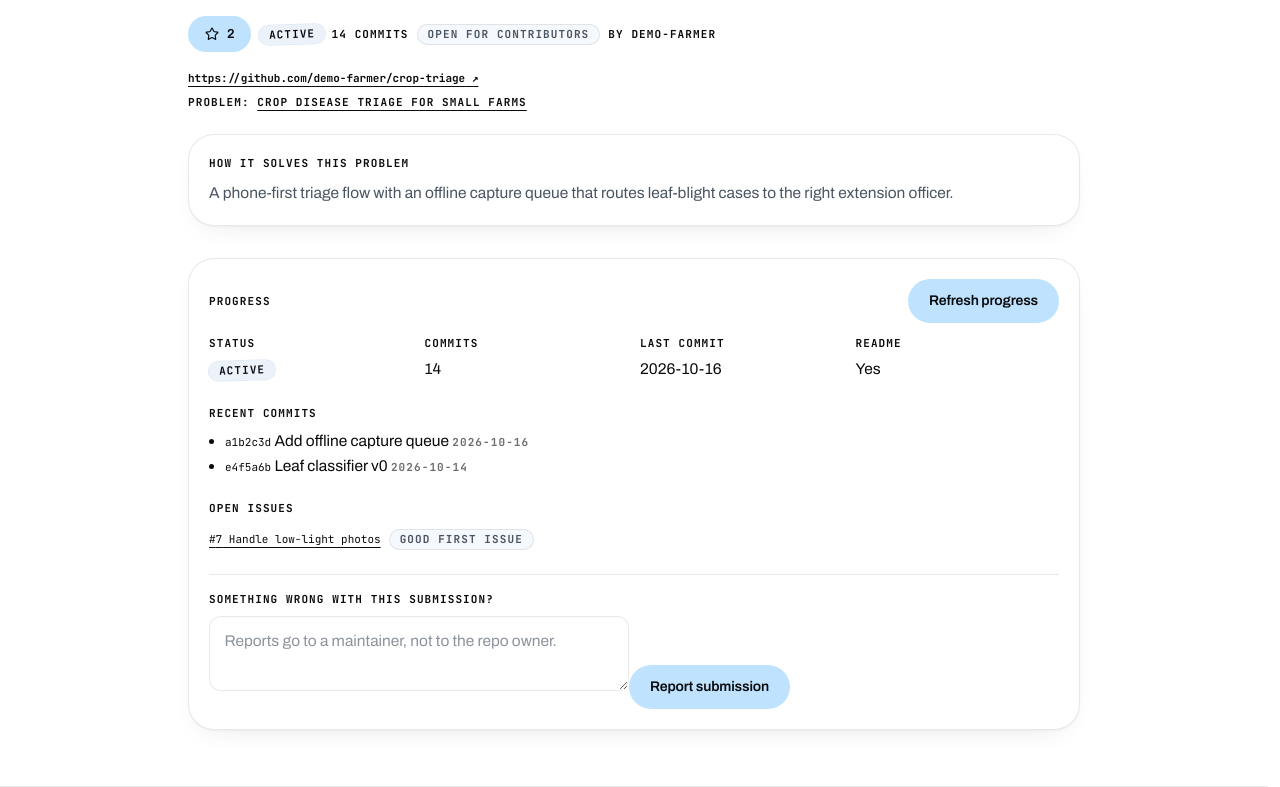
Test: ProjectDetailPage › reports a submission: client validation, success toast, then a clean form
(page scrolled)
In the text box labelled "Something wrong with this submission?": (419, 654) 209,616 -> 629,691, type "short"
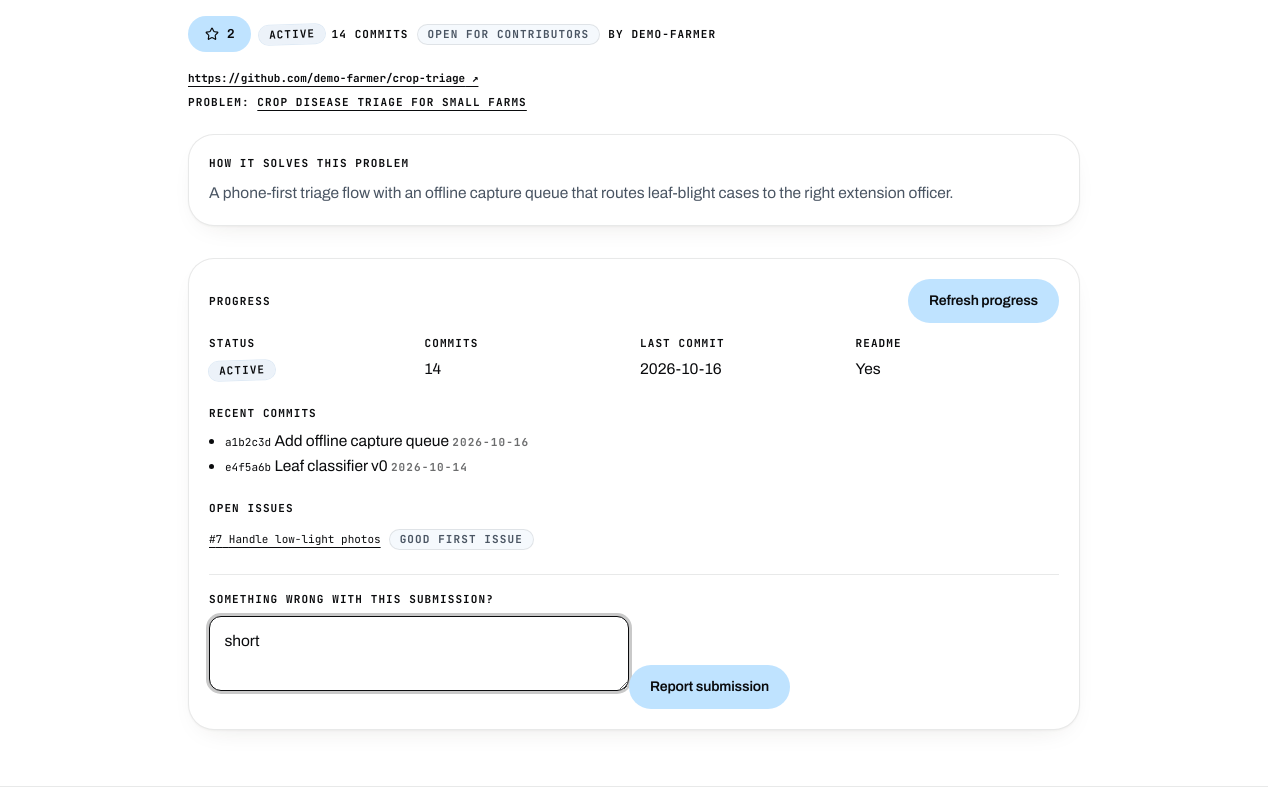
Click the button "Report submission": (710, 687) 629,665 -> 790,709
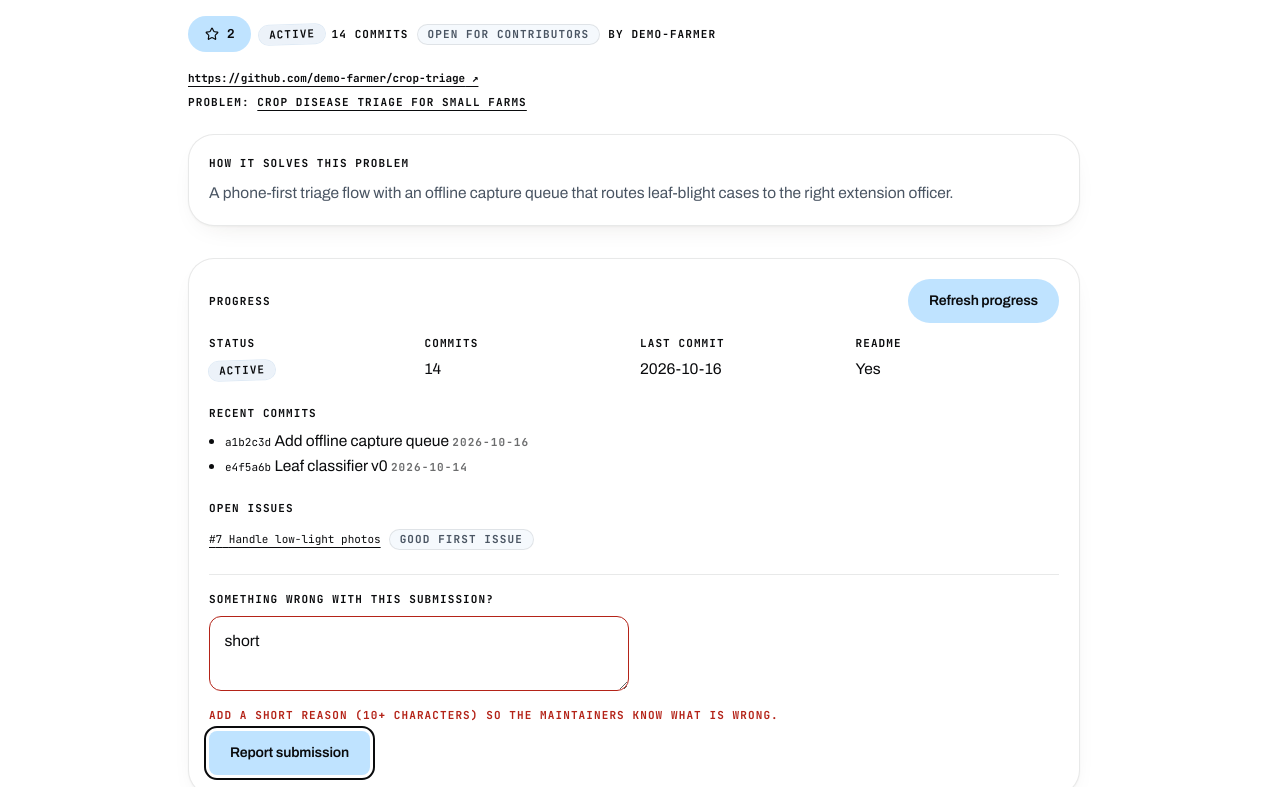
Result: the text "Add a short reason (10+ characters) so the maintainers know what is wrong." is shown at 209,708 -> 779,722
Replace the text in the text box labelled "Something wrong with this submission?" with "The demo link goes to a parking page.": (419, 654) 209,616 -> 629,691
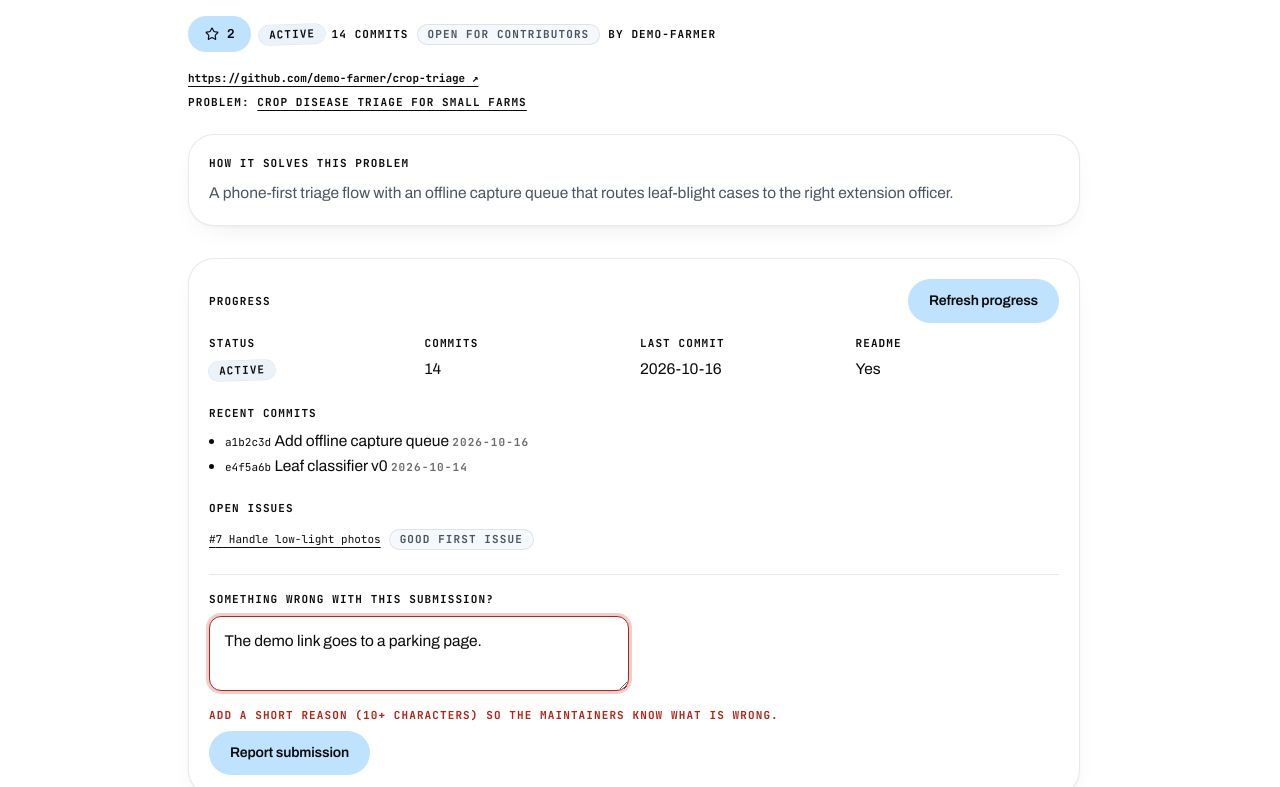
Click the button "Report submission": (290, 754) 209,732 -> 370,776
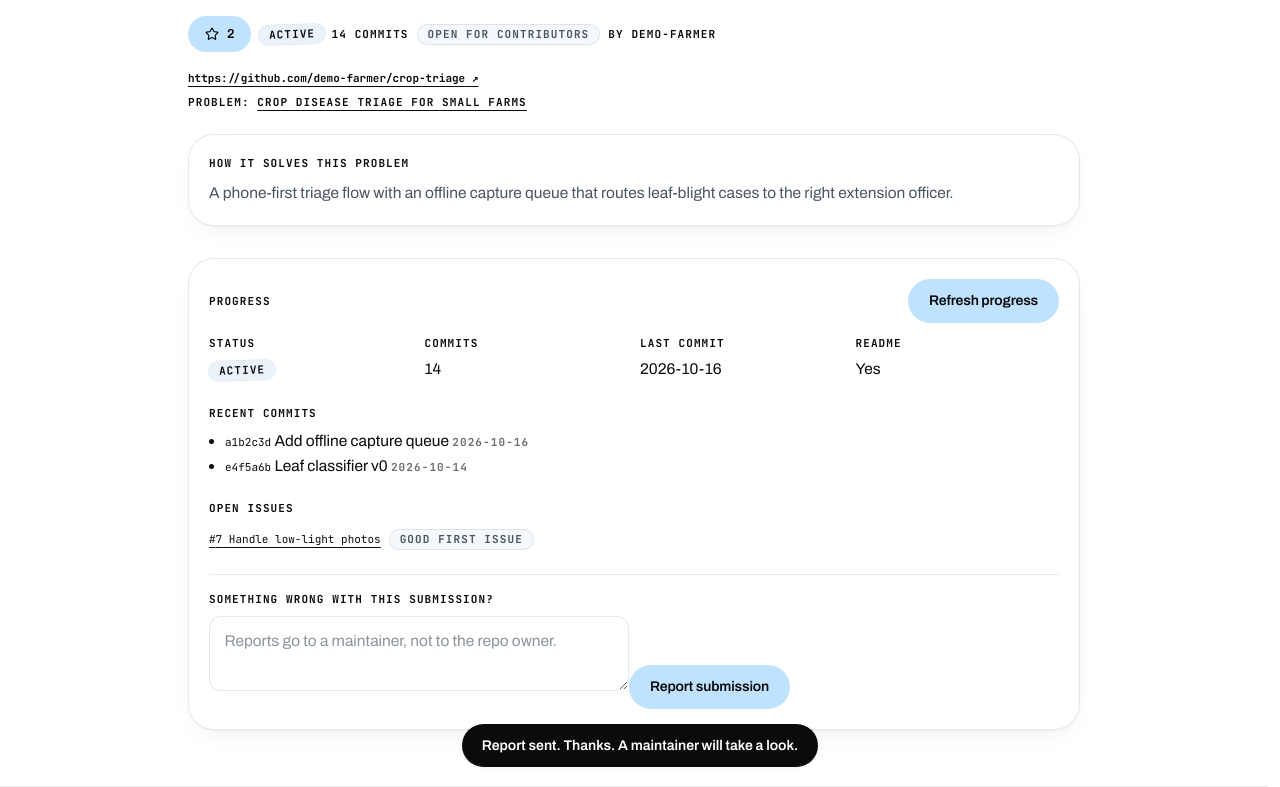
Result: the message reads "Report sent. Thanks. A maintainer will take a look." at 482,738 -> 798,753
